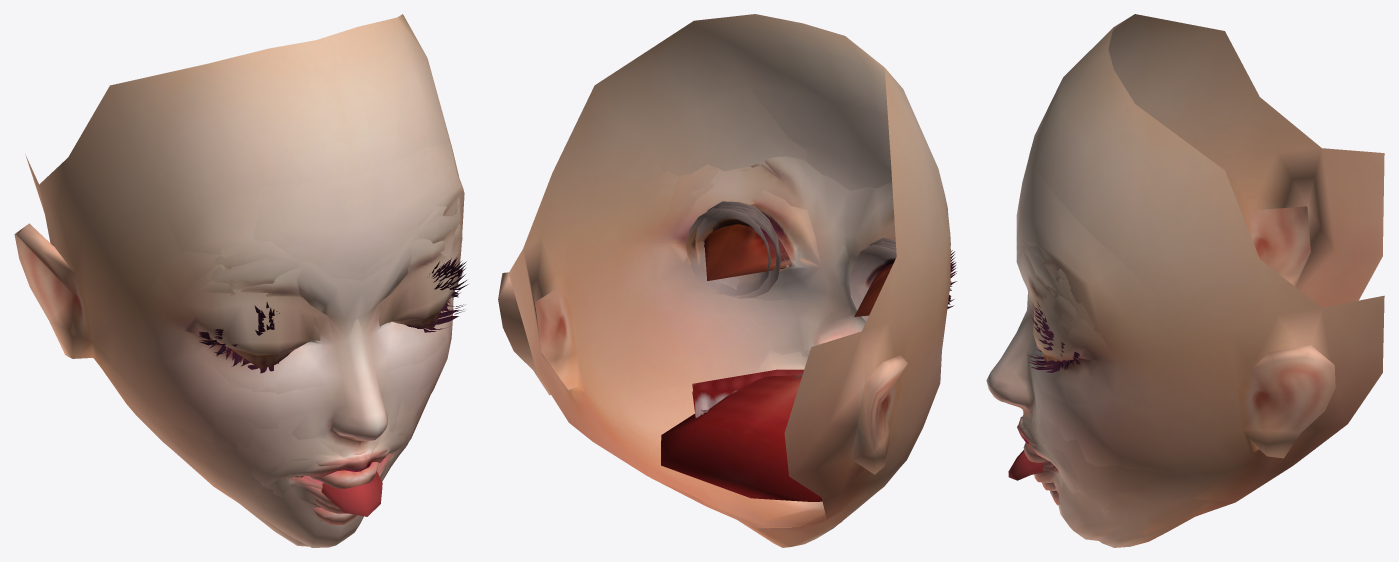
3 renders of one model, left to right at view 1: azimuth 30°, elevation 25°; view 2: azimuth 150°, elevation 25°; view 3: azimuth 270°, elevation 25°, orthographic. The views are drawn at different scales.
Parts seen in each view (by area): view 1: ts_nchr002_face, face002_duzui, face002_tushetou, face002_biyan, face002_kouxing01, face002_yanse, face002_huaixiao, face002_nanguo, face002_qinzui, face002_kouxing02, face002_haixiu, face002_jingya (+1 smaller); view 2: ts_nchr002_face, face002_duzui, face002_haixiu, face002_weixiao, face002_huaixiao, face002_nanguo, face002_yanse, face002_jingya, face002_biyan, face002_tushetou, face002_kouxing02; view 3: face002_biyan, face002_huaixiao, face002_tushetou, face002_weixiao, face002_jingya, face002_yanse, face002_kouxing01, face002_nanguo, face002_duzui, face002_qinzui.
Part boxes in pixels (bbox=[...]): ts_nchr002_face: bbox=[15, 48, 465, 441]; face002_duzui: bbox=[14, 53, 465, 488]; face002_tushetou: bbox=[132, 165, 466, 547]; face002_biyan: bbox=[184, 14, 462, 439]; face002_kouxing01: bbox=[73, 40, 462, 497]; face002_yanse: bbox=[143, 224, 463, 477]; face002_huaixiao: bbox=[138, 143, 464, 483]; face002_nanguo: bbox=[113, 88, 468, 521]; face002_qinzui: bbox=[180, 249, 464, 466]; face002_kouxing02: bbox=[117, 64, 448, 513]; face002_haixiu: bbox=[160, 269, 465, 442]; face002_jingya: bbox=[133, 197, 465, 546]; ts_nchr002_face: bbox=[498, 14, 950, 526]; face002_duzui: bbox=[510, 17, 955, 526]; face002_haixiu: bbox=[629, 208, 956, 526]; face002_weixiao: bbox=[621, 233, 954, 524]; face002_huaixiao: bbox=[660, 156, 955, 528]; face002_nanguo: bbox=[514, 143, 956, 527]; face002_yanse: bbox=[638, 88, 955, 525]; face002_jingya: bbox=[650, 190, 955, 547]; face002_biyan: bbox=[498, 23, 949, 526]; face002_tushetou: bbox=[651, 161, 956, 530]; face002_kouxing02: bbox=[608, 17, 946, 528]; face002_biyan: bbox=[986, 14, 1384, 502]; face002_huaixiao: bbox=[1016, 169, 1159, 465]; face002_tushetou: bbox=[1008, 154, 1235, 540]; face002_weixiao: bbox=[1016, 247, 1177, 473]; face002_jingya: bbox=[1016, 243, 1193, 547]; face002_yanse: bbox=[1016, 242, 1117, 432]; face002_kouxing01: bbox=[1030, 27, 1113, 493]; face002_nanguo: bbox=[1016, 239, 1095, 504]; face002_duzui: bbox=[1016, 245, 1079, 462]; face002_qinzui: bbox=[1019, 310, 1082, 435].
Size of the model in its own units: 0.1808 by 0.1629 by 0.2238.
Materials: 1 (1 with a texture image).
